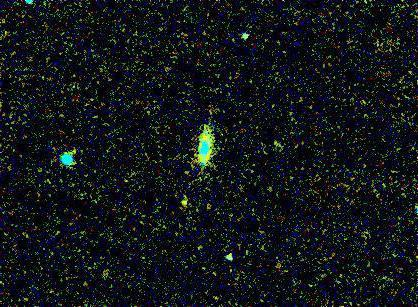star: (168, 185, 198, 215)
